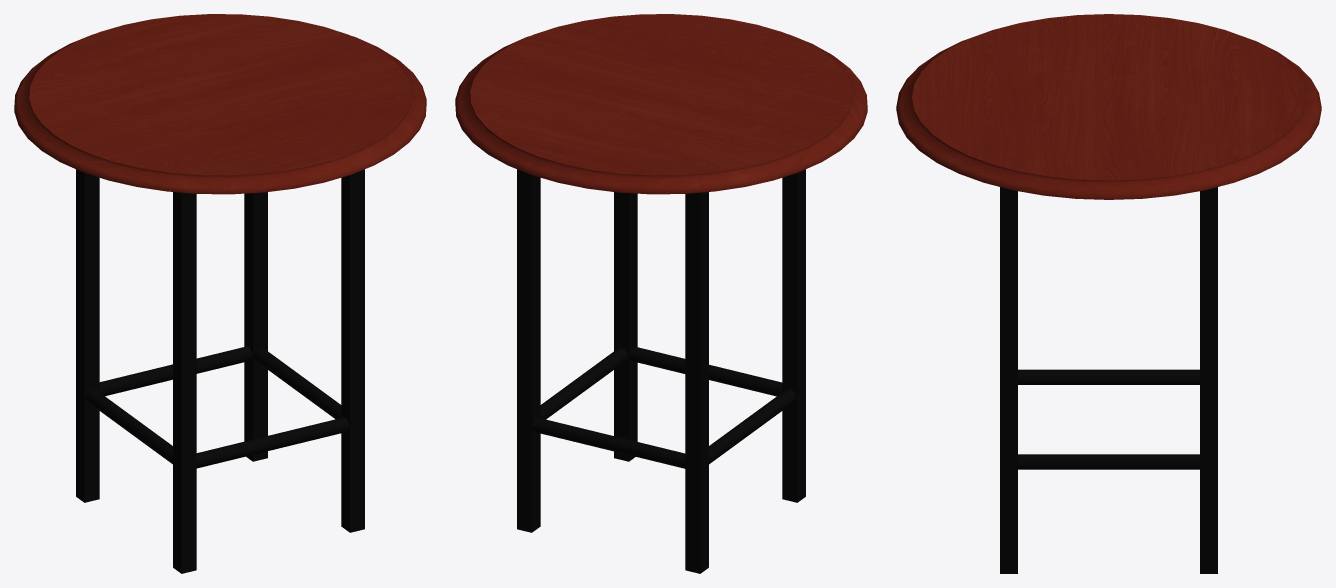
The model's file is Bar table 3.FBX.
The picture shows the model from 3 angles, left to right: view 1: azimuth 30°, elevation 25°; view 2: azimuth 150°, elevation 25°; view 3: azimuth 270°, elevation 25°; orthographic projection. The views are drawn at different scales.
Visible parts, largest first — view 1: table bar 3; view 2: table bar 3; view 3: table bar 3.
Part boxes in pixels (bbox=[...]): table bar 3: bbox=[14, 14, 426, 573]; table bar 3: bbox=[455, 14, 867, 573]; table bar 3: bbox=[896, 14, 1321, 573].
Bounding box in the file's own units: 71.53 × 79.9 × 71.53.
Materials: 2 (1 with a texture image).
